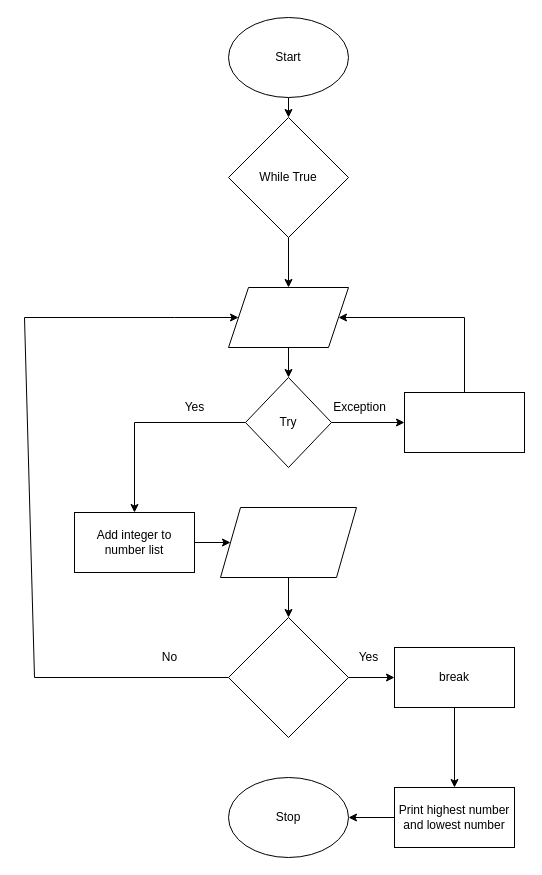
The diagram is 542 pixels wide and 875 high, and some of its shapes have lost their labels. The centre of each missing label's shape, as x and y in pixels:
Get finish (to end now or not): (x=288, y=542)
Get integer: (x=288, y=317)
If finish = yes: (x=288, y=677)
Print "This is not an integer": (x=464, y=422)
